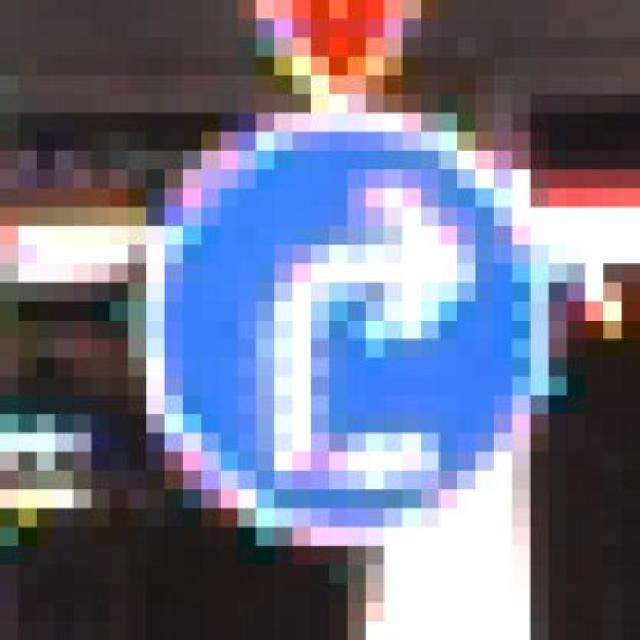Turn right ahead: (110, 112, 567, 546)
